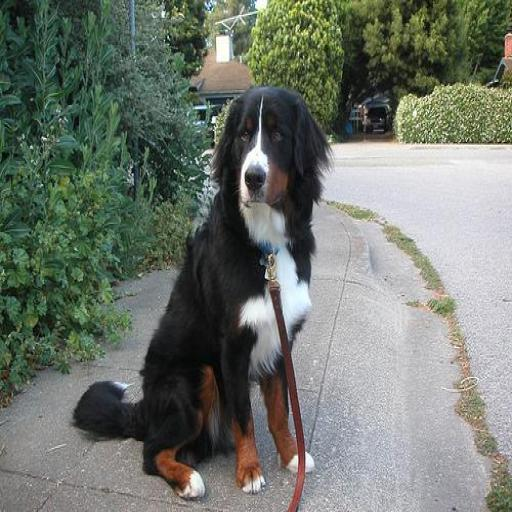dog_face: (211, 84, 319, 225)
